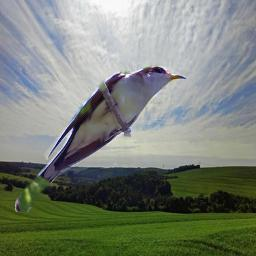Cuckoo: (15, 65, 186, 212)
